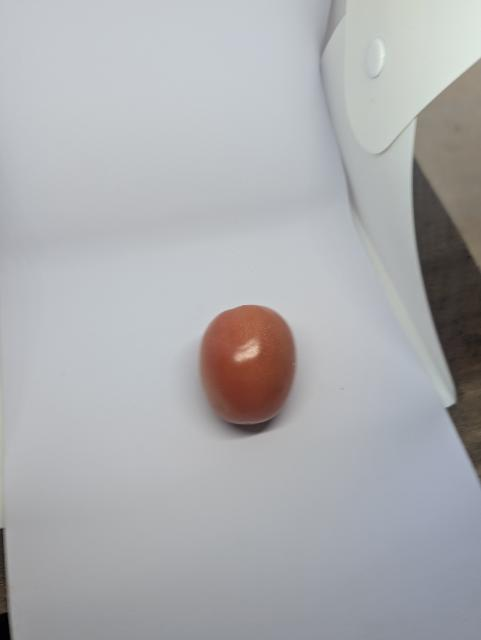red: (192, 294, 300, 439)
